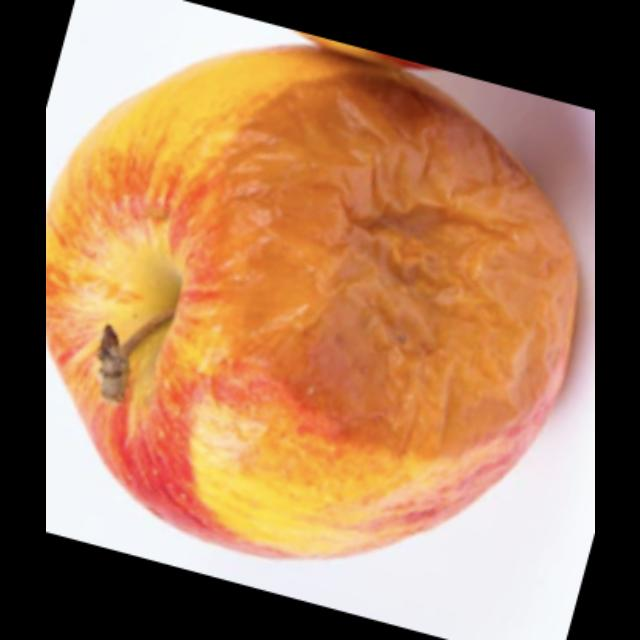Apel Tidak Segar: (46, 34, 584, 568)
